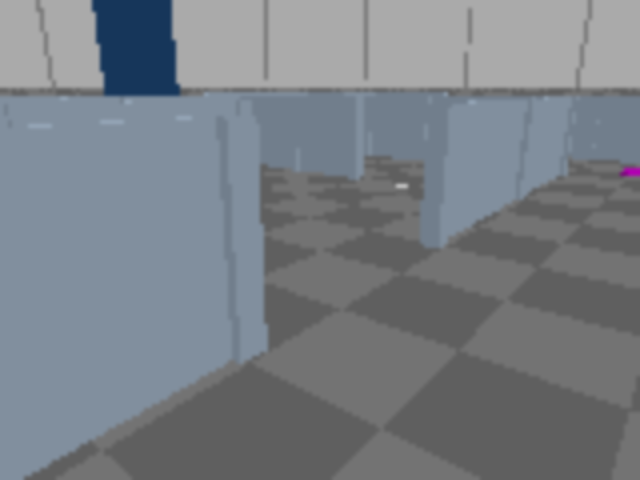goal_zone: (619, 166, 638, 181)
